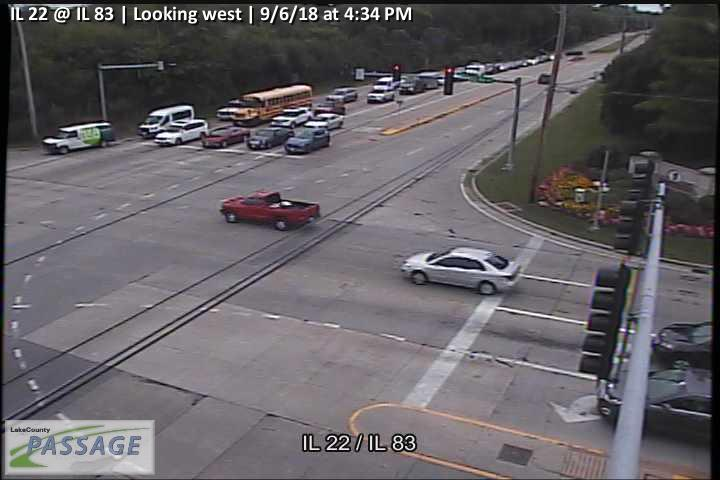Bus: (231, 84, 312, 127)
SUV: (595, 367, 713, 439), (44, 121, 115, 155), (136, 104, 195, 138), (152, 119, 209, 145), (284, 127, 331, 153), (271, 106, 313, 128), (325, 87, 359, 102), (398, 79, 426, 94), (372, 76, 399, 90)
Sedan: (399, 245, 522, 295), (246, 126, 295, 150), (202, 125, 251, 148), (303, 112, 346, 131), (314, 101, 347, 116), (367, 86, 396, 103)
Truck: (218, 189, 320, 231)
